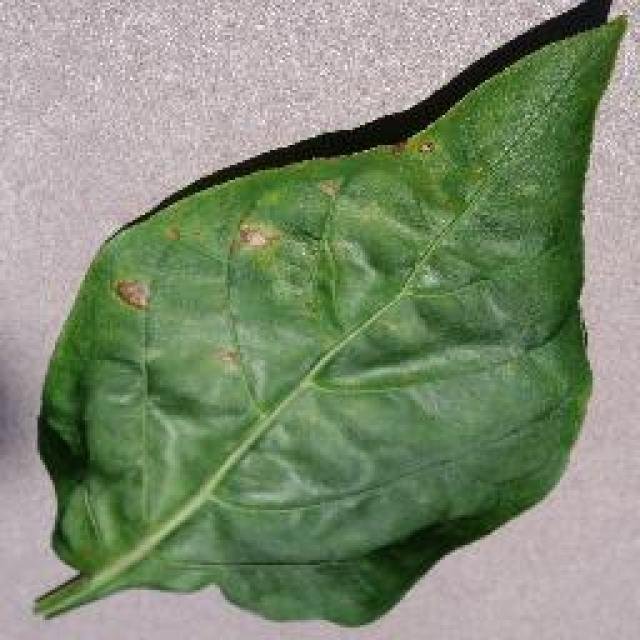Chilli_Bacterial_Spot: (28, 8, 630, 630), (105, 130, 445, 318), (230, 215, 280, 257), (110, 275, 152, 315), (205, 340, 245, 375), (313, 172, 345, 202), (157, 220, 185, 245), (412, 135, 438, 160)
